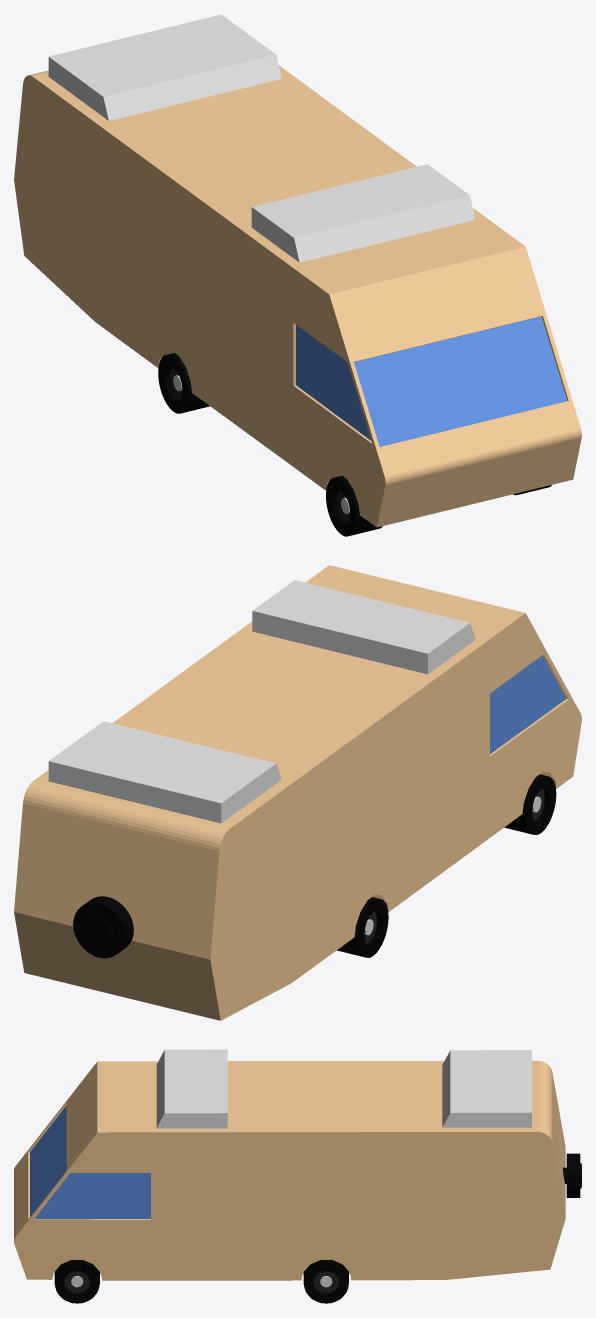
The model's file is meermans_indy_toy.glb.
3 views of the same model, one above another, from view 1: azimuth 30°, elevation 25°; view 2: azimuth 150°, elevation 25°; view 3: azimuth 270°, elevation 25° (orthographic). The views are drawn at different scales.
Visible parts, largest first — view 1: Cube, Cylinder.001, Cylinder.003; view 2: Cube, Cylinder.004, Cylinder.003, Cylinder.001; view 3: Cube, Cylinder.003, Cylinder.001, Cylinder.004.
Boxes of the visible parts, x1=… form: Cube: x1=14, y1=14, x2=581, y2=527; Cylinder.001: x1=326, y1=475, x2=551, y2=536; Cylinder.003: x1=158, y1=353, x2=209, y2=413; Cube: x1=14, y1=565, x2=581, y2=1020; Cylinder.004: x1=73, y1=896, x2=133, y2=958; Cylinder.003: x1=337, y1=897, x2=388, y2=957; Cylinder.001: x1=504, y1=774, x2=556, y2=834; Cube: x1=14, y1=1049, x2=565, y2=1280; Cylinder.003: x1=303, y1=1260, x2=348, y2=1303; Cylinder.001: x1=54, y1=1260, x2=99, y2=1303; Cylinder.004: x1=563, y1=1153, x2=581, y2=1197.
Size of the model in its own units: 0.99 by 1.18 by 3.27.
